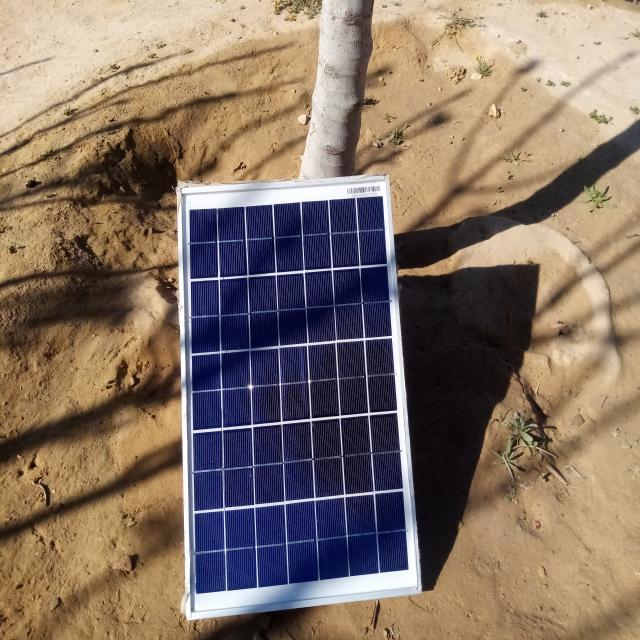no faulty: (177, 174, 423, 620)
